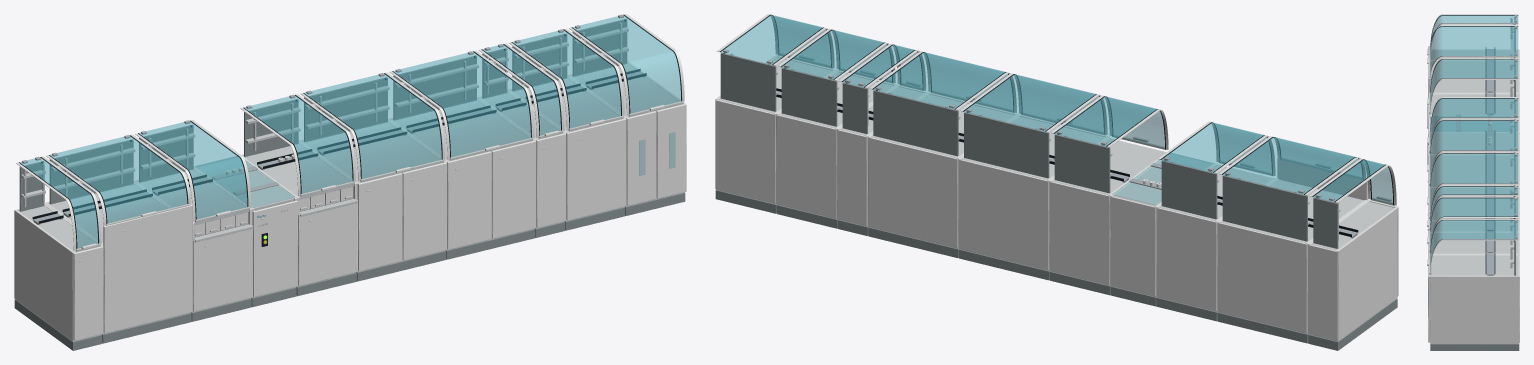
File: INS0151.glb
3 views of the same model, side by side, from view 1: azimuth 30°, elevation 25°; view 2: azimuth 150°, elevation 25°; view 3: azimuth 270°, elevation 25° (orthographic). The views are drawn at different scales.
Visible parts, largest first — view 1: M02_AOB_door_panel_0, M07_ACU_candidate_cyan_hood, M06_ACU_candidate_cyan_hood, M02_AOB_cyan_hood, M01_RSF_side, M09_BCL_candidate_door_panel_0, M05_IPB_access_cyan_hood, M10_AQM_candidate_cyan_hood, M03_OBS_cyan_hood, M09_BCL_candidate_cyan_hood, M05_IPB_access_door_panel_0, M03_OBS_door_panel_0 (+39 smaller); view 2: M02_AOB_rear, M06_ACU_candidate_rear, M07_ACU_candidate_rear, M01_RSF_side, M03_OBS_rear, M05_IPB_access_rear, M10_AQM_candidate_rear, M09_BCL_candidate_rear, M07_ACU_candidate_cyan_hood, M06_ACU_candidate_cyan_hood, M02_AOB_cyan_hood, M04_IPB_transport_rear (+36 smaller); view 3: M10_AQM_candidate_side.001, M07_ACU_candidate_cyan_hood, M06_ACU_candidate_cyan_hood, M02_AOB_cyan_hood, M02_AOB_workdeck, M06_ACU_candidate_workdeck, M07_ACU_candidate_workdeck, M05_IPB_access_cyan_hood, M03_OBS_cyan_hood, M10_AQM_candidate_cyan_hood, M09_BCL_candidate_cyan_hood, M10_AQM_candidate_workdeck (+63 smaller).
Part boxes in pixels (<box>): M02_AOB_door_panel_0: <box>103,204,192,333</box>; M07_ACU_candidate_cyan_hood: <box>393,52,530,157</box>; M06_ACU_candidate_cyan_hood: <box>304,74,441,178</box>; M02_AOB_cyan_hood: <box>50,135,187,223</box>; M01_RSF_side: <box>14,209,74,340</box>; M09_BCL_candidate_door_panel_0: <box>566,118,626,220</box>; M05_IPB_access_cyan_hood: <box>244,95,352,193</box>; M10_AQM_candidate_cyan_hood: <box>573,15,681,113</box>; M03_OBS_cyan_hood: <box>139,121,247,219</box>; M09_BCL_candidate_cyan_hood: <box>513,30,620,128</box>; M05_IPB_access_door_panel_0: <box>298,200,357,285</box>; M03_OBS_door_panel_0: <box>193,225,252,311</box>; M02_AOB_rear: <box>1217,222,1307,333</box>; M06_ACU_candidate_rear: <box>958,159,1048,269</box>; M07_ACU_candidate_rear: <box>868,137,957,247</box>; M01_RSF_side: <box>1336,207,1397,340</box>; M03_OBS_rear: <box>1156,207,1216,310</box>; M05_IPB_access_rear: <box>1049,181,1109,284</box>; M10_AQM_candidate_rear: <box>715,100,775,203</box>; M09_BCL_candidate_rear: <box>776,115,836,218</box>; M07_ACU_candidate_cyan_hood: <box>873,52,1012,111</box>; M06_ACU_candidate_cyan_hood: <box>964,74,1103,133</box>; M02_AOB_cyan_hood: <box>1222,137,1362,194</box>; M04_IPB_transport_rear: <box>1110,196,1155,296</box>; M10_AQM_candidate_side.001: <box>1430,275,1519,343</box>; M07_ACU_candidate_cyan_hood: <box>1430,154,1518,212</box>; M06_ACU_candidate_cyan_hood: <box>1430,121,1518,179</box>; M02_AOB_cyan_hood: <box>1430,26,1518,73</box>; M02_AOB_workdeck: <box>1431,61,1518,92</box>; M06_ACU_candidate_workdeck: <box>1431,155,1518,186</box>; M07_ACU_candidate_workdeck: <box>1431,189,1518,219</box>; M05_IPB_access_cyan_hood: <box>1430,98,1518,146</box>; M03_OBS_cyan_hood: <box>1430,59,1518,107</box>; M10_AQM_candidate_cyan_hood: <box>1430,220,1518,268</box>; M09_BCL_candidate_cyan_hood: <box>1430,198,1518,245</box>; M10_AQM_candidate_workdeck: <box>1431,255,1518,275</box>.
Bounding box in the file's own units: 6.53 × 1.49 × 1.13.
